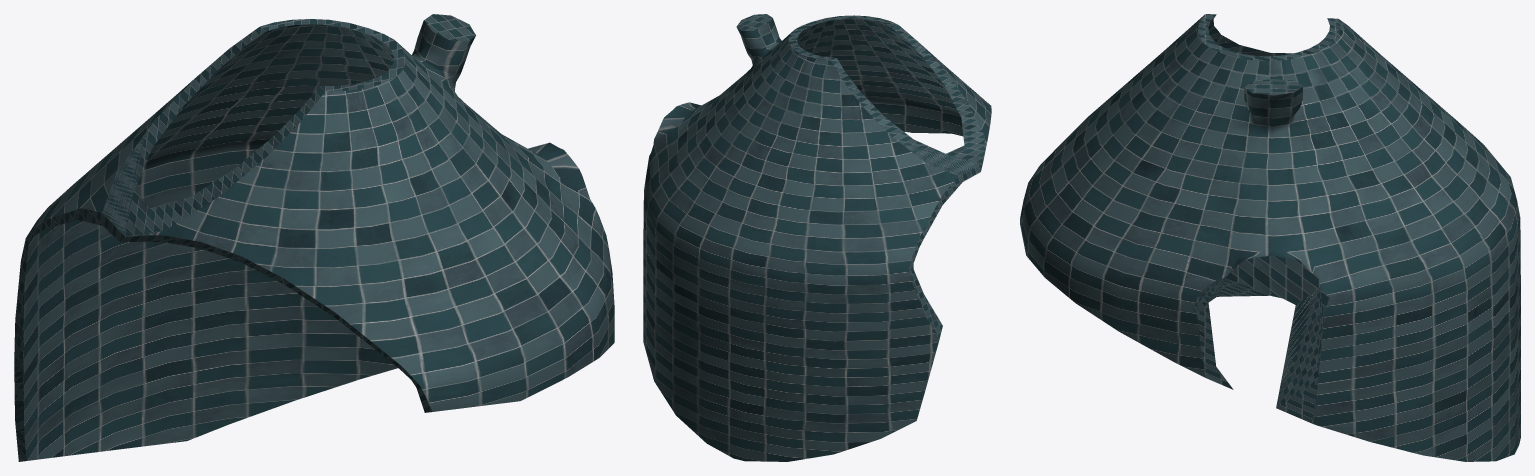
The picture shows the model from 3 angles, left to right: view 1: azimuth 30°, elevation 25°; view 2: azimuth 150°, elevation 25°; view 3: azimuth 270°, elevation 25°; orthographic projection. The views are drawn at different scales.
Visible parts, largest first — view 1: Cylinder_cell.007; view 2: Cylinder_cell.007; view 3: Cylinder_cell.007.
Boxes of the visible parts, x1,y1,x2,y2 form: Cylinder_cell.007: (14, 14, 614, 461); Cylinder_cell.007: (643, 14, 991, 461); Cylinder_cell.007: (1020, 14, 1520, 461).
Bounding box in the file's own units: 2.33 × 2.36 × 2.59.
1 material, 1 textured.
